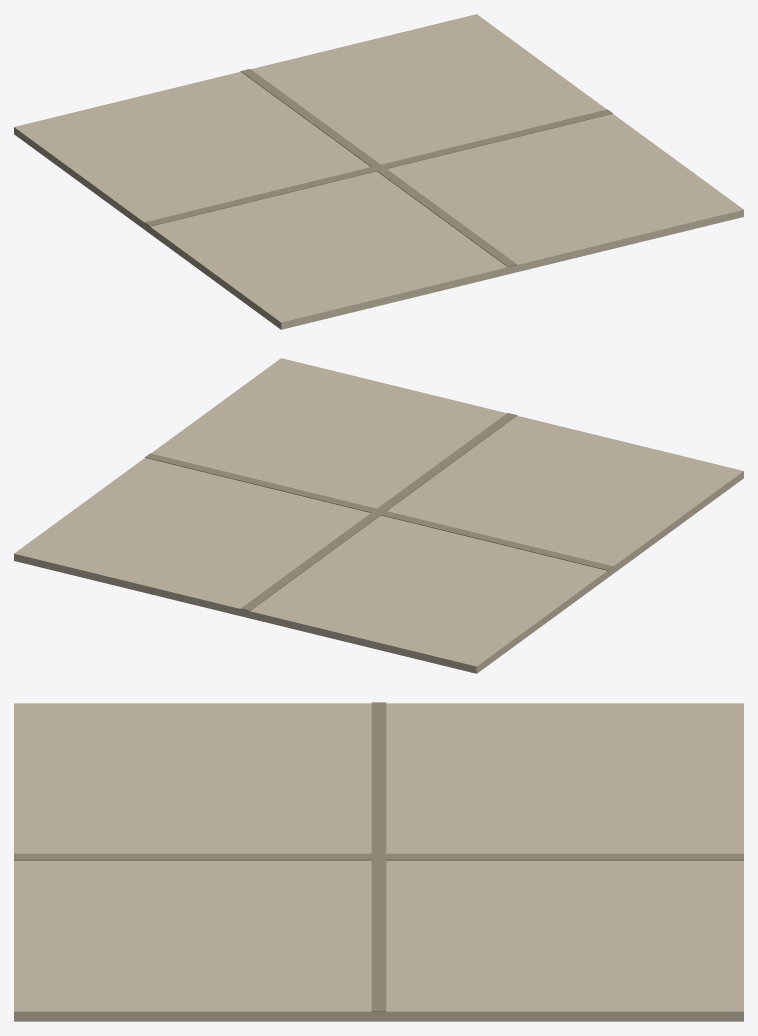
File: square-paving.glb
The picture shows the model from 3 angles, top to bottom: view 1: azimuth 30°, elevation 25°; view 2: azimuth 150°, elevation 25°; view 3: azimuth 270°, elevation 25°; orthographic projection. The views are drawn at different scales.
Visible parts, largest first — view 1: square-paving; view 2: square-paving; view 3: square-paving.
Part boxes in pixels (box(x1,y1,x2,y2)): square-paving: box(14, 14, 743, 329); square-paving: box(14, 358, 743, 673); square-paving: box(14, 702, 743, 1021).
Size of the model in its own units: 4 by 0.065 by 4.
